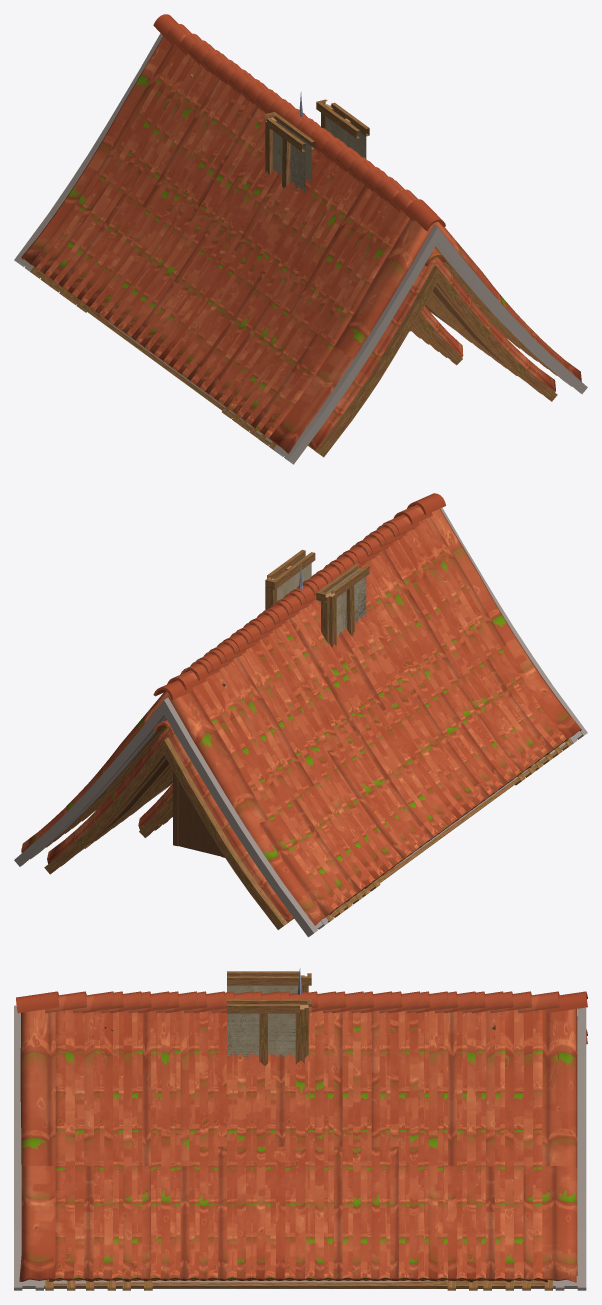
The model's file is megakit.glb.
3 renders of one model, top to bottom at view 1: azimuth 30°, elevation 25°; view 2: azimuth 150°, elevation 25°; view 3: azimuth 270°, elevation 25°, orthographic. The views are drawn at different scales.
Visible parts, largest first — view 1: Roof_RoundTiles_8x14, Roof_RoundTiles_8x12, Roof_RoundTiles_8x10, Roof_RoundTiles_6x14, Roof_RoundTiles_8x8, Overhang_Side_Plaster_Long_L, Overhang_Side_Plaster_Long_R, Roof_RoundTiles_4x8, Overhang_Side_Plaster_Short_L; view 2: Roof_RoundTiles_8x14, Roof_RoundTiles_8x10, Roof_RoundTiles_8x12, Roof_RoundTiles_8x8, Roof_RoundTiles_6x14, Stair_Interior_SolidExtended, Overhang_Side_Plaster_Long_L, Overhang_Side_Plaster_Long_R, Overhang_Side_Plaster_Short_L, Roof_RoundTiles_4x8; view 3: Roof_RoundTiles_8x14, Roof_RoundTiles_8x12, Roof_RoundTiles_8x10, Roof_RoundTiles_8x8, Overhang_Side_Plaster_Long_R, Overhang_Side_Plaster_Long_L, Overhang_Side_Plaster_Short_R, Overhang_Side_UnevenBrick_Long_R.
Part boxes in pixels (x1,y1,x2,y2): Roof_RoundTiles_8x14: (14,14,587,464); Roof_RoundTiles_8x12: (30,24,565,449); Roof_RoundTiles_8x10: (48,40,547,438); Roof_RoundTiles_6x14: (308,248,557,457); Roof_RoundTiles_8x8: (66,50,529,424); Overhang_Side_Plaster_Long_L: (265,112,315,194); Overhang_Side_Plaster_Long_R: (316,100,369,158); Roof_RoundTiles_4x8: (413,305,463,365); Overhang_Side_Plaster_Short_L: (265,114,293,188); Roof_RoundTiles_8x14: (14,493,587,937); Roof_RoundTiles_8x10: (54,523,553,910); Roof_RoundTiles_8x12: (36,505,572,922); Roof_RoundTiles_8x8: (72,533,535,896); Roof_RoundTiles_6x14: (44,720,293,929); Stair_Interior_SolidExtended: (173,771,224,857); Overhang_Side_Plaster_Long_L: (316,563,369,647); Overhang_Side_Plaster_Long_R: (265,549,315,609); Overhang_Side_Plaster_Short_L: (317,576,354,645); Roof_RoundTiles_4x8: (138,783,172,837); Roof_RoundTiles_8x14: (14,991,587,1290); Roof_RoundTiles_8x12: (45,991,559,1290); Roof_RoundTiles_8x10: (82,991,513,1290); Roof_RoundTiles_8x8: (122,991,485,1290); Overhang_Side_Plaster_Long_R: (227,999,311,1065); Overhang_Side_Plaster_Long_L: (227,971,311,993); Overhang_Side_Plaster_Short_R: (259,999,311,1064); Overhang_Side_UnevenBrick_Long_R: (227,1014,295,1057).
Size of the model in its own units: 9.95 by 8.91 by 15.71.
12 materials, 11 textured.
